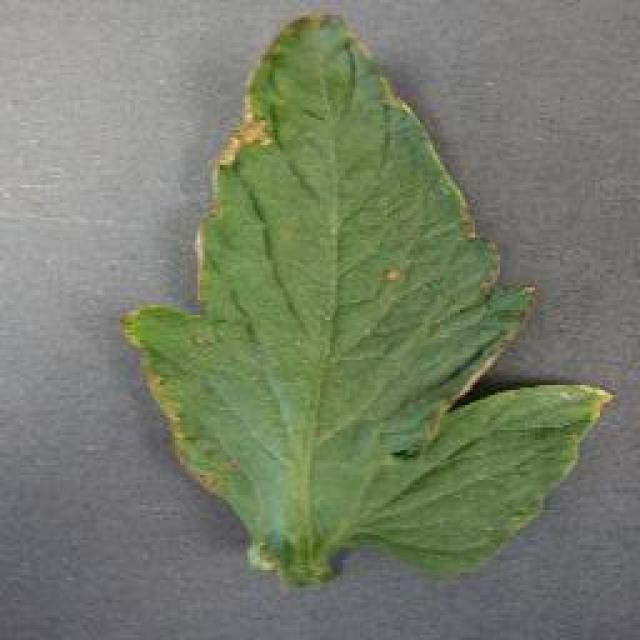Tomato___Bacterial_spot: (119, 13, 616, 602)
